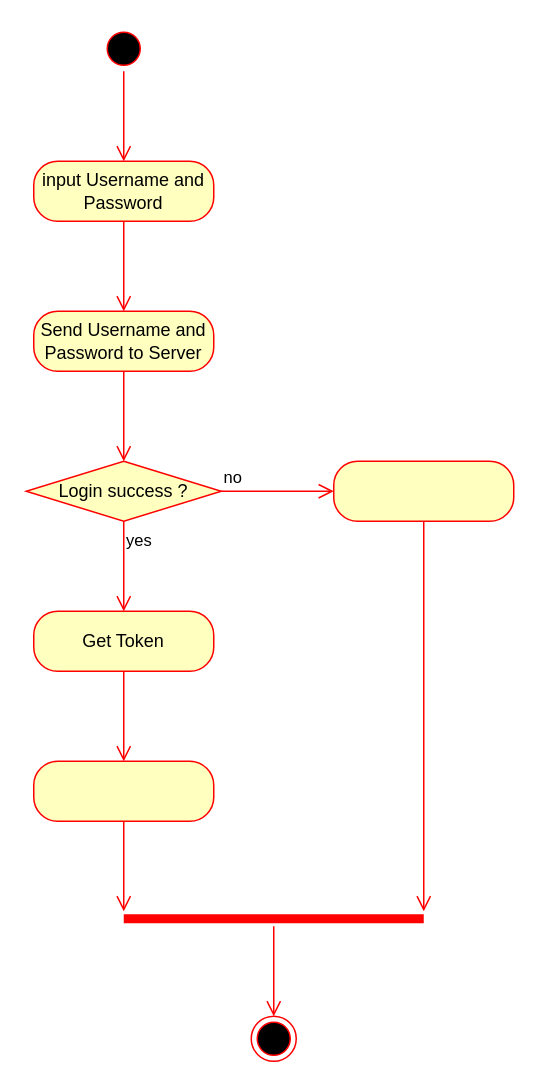
This 540x1088 diagram has some shape labels left out. Here are the shapes that lost their labels. From the top down, the centre of each, then its label:
the point at 423,490: Display Error
the point at 123,790: Save Token
